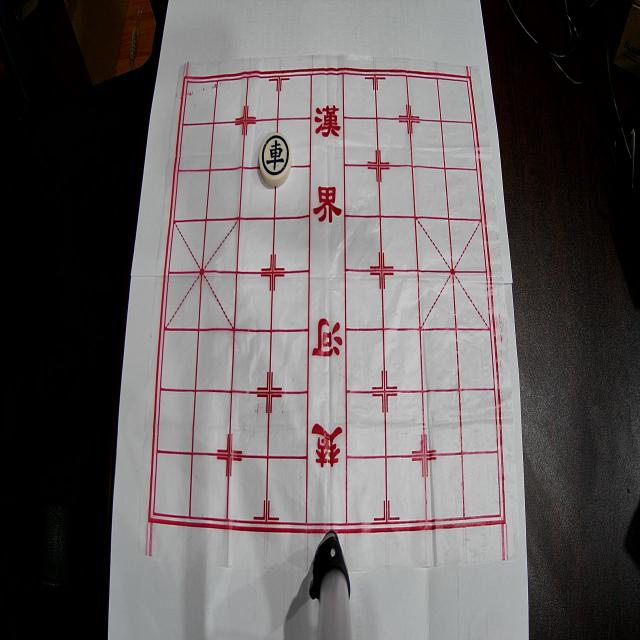black-chariot: (260, 133, 292, 186)
